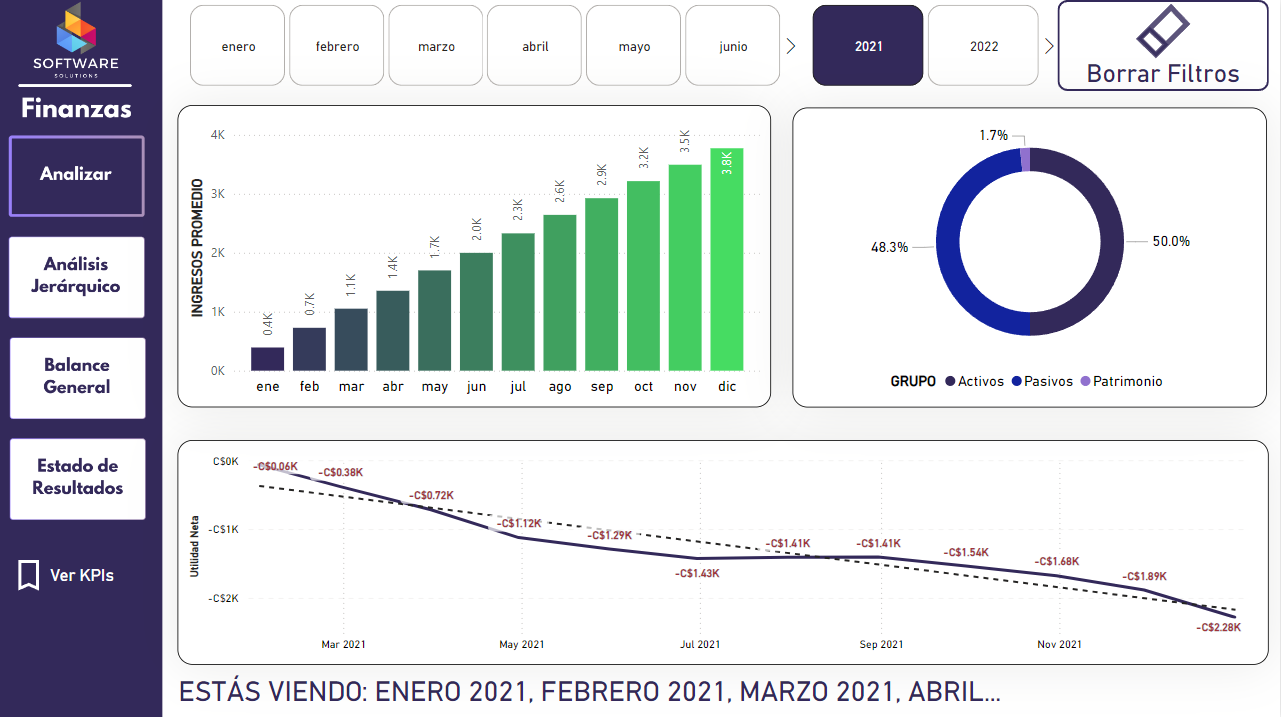

The dashboard page shown, as its layout file describes it:
{"tool":"powerbi","page":{"name":"Analizar","canvas":[1280,720],"ordinal":2},"visuals":[{"type":"actionButton","title":"Button - Analizar","box":[8.8,135,137.5,82.5],"z":0},{"type":"cardVisual","title":"Capital de Trabajo","fields":{"Data":["Tabla de Metricas.Capital de trabajo"]},"box":[184.6,392.1,333.6,259.8],"z":0,"group":"g2"},{"type":"advancedSlicerVisual","title":"Filter - Mes","fields":{"Values":["dimCalendario.Mes largo"]},"box":[170.8,0,631.7,91.1],"z":1000,"group":"g1"},{"type":"actionButton","title":"Button - Pronóstico","box":[8.8,237.5,138.8,83.8],"z":1000},{"type":"cardVisual","title":"Razón Corriente","fields":{"Data":["Tabla de Metricas.Razón Corriente"]},"box":[897.5,392.1,358.7,259.8],"z":1000,"group":"g2"},{"type":"advancedSlicerVisual","title":"Filter - Año","fields":{"Values":["dimCalendario.Año"]},"box":[793.1,0,267.1,91.1],"z":2000,"group":"g1"},{"type":"actionButton","title":"Button - Balance General","box":[7.5,336.2,137.5,81.2],"z":2000},{"type":"actionButton","title":"Button - Ver Gráficos","box":[8.8,555,136.2,40],"z":2000,"group":"g2"},{"type":"actionButton","title":"Button - Borrar Filtros","box":[1058.4,0,211.5,91],"z":3000,"group":"g1"},{"type":"cardVisual","title":"Ratio de Endeudamiento","fields":{"Data":["Tabla de Metricas.Ratio de Endeudamiento"]},"box":[548,392.3,334.4,259.4],"z":3000,"group":"g2"},{"type":"cardVisual","title":"ROE (Retorno por patrimonio)","fields":{"Data":["Tabla de Metricas.ROE"]},"box":[185.1,115.5,521.7,260.9],"z":4000,"group":"g2"},{"type":"actionButton","title":"Button - Estado de Resultados","box":[7.5,438.5,137.7,84.8],"z":4000},{"type":"cardVisual","title":"ROI (Retorno por Activos)","fields":{"Data":["Tabla de Metricas.ROI"]},"box":[734,110.2,522.8,266.1],"z":5000,"group":"g2"},{"type":"cardVisual","title":"Card - Mes","fields":{"Data":["Tabla de Metricas.Etiqueta mes"]},"box":[161.2,653.8,867.5,66.2],"z":5000},{"type":"group","id":"g1","title":"Filtros","box":[170.8,0,1099,91.2],"z":6000},{"type":"group","id":"g2","title":"Scorecards","box":[8.8,110.2,1248,541.7],"z":7000}]}

Visuals, with their boxes in screenshot pixels (x1, y1, x2, y2), scaled from the page's 1280x720 canvas onto the 1281x717 screenshot:
"Button - Analizar" actionButton: crop(9, 134, 146, 217)
"Capital de Trabajo" cardVisual: crop(185, 390, 519, 649)
"Filter - Mes" advancedSlicerVisual: crop(171, 0, 803, 91)
"Button - Pronóstico" actionButton: crop(9, 237, 148, 320)
"Razón Corriente" cardVisual: crop(898, 390, 1257, 649)
"Filter - Año" advancedSlicerVisual: crop(794, 0, 1061, 91)
"Button - Balance General" actionButton: crop(8, 335, 145, 416)
"Button - Ver Gráficos" actionButton: crop(9, 553, 145, 593)
"Button - Borrar Filtros" actionButton: crop(1059, 0, 1271, 91)
"Ratio de Endeudamiento" cardVisual: crop(548, 391, 883, 649)
"ROE (Retorno por patrimonio)" cardVisual: crop(185, 115, 707, 375)
"Button - Estado de Resultados" actionButton: crop(8, 437, 145, 521)
"ROI (Retorno por Activos)" cardVisual: crop(735, 110, 1258, 375)
"Card - Mes" cardVisual: crop(161, 651, 1030, 716)
"Filtros" group: crop(171, 0, 1271, 91)
"Scorecards" group: crop(9, 110, 1258, 649)
